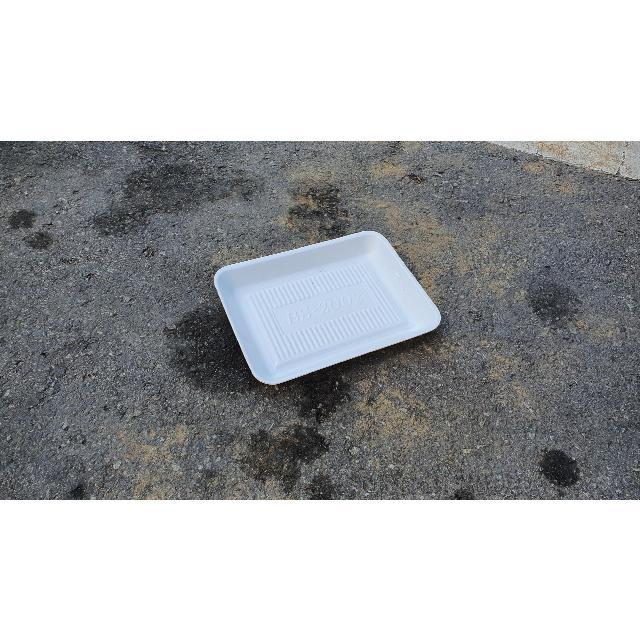Recipiente plastico: (216, 223, 442, 377)
